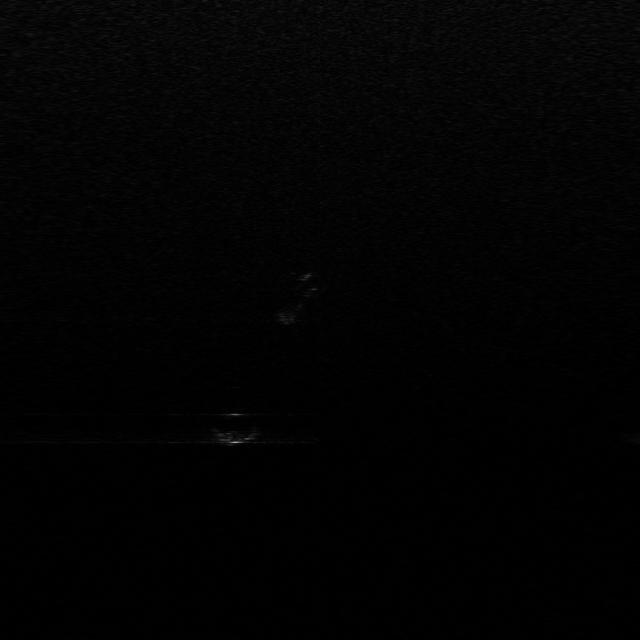ball: (207, 412, 258, 444)
tyre: (277, 271, 319, 325)
